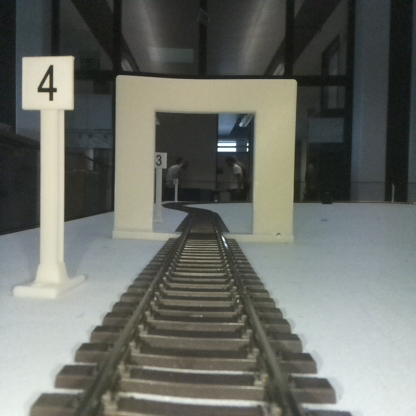white-info-3: (154, 152, 166, 221)
white-info-4: (22, 56, 72, 295)
